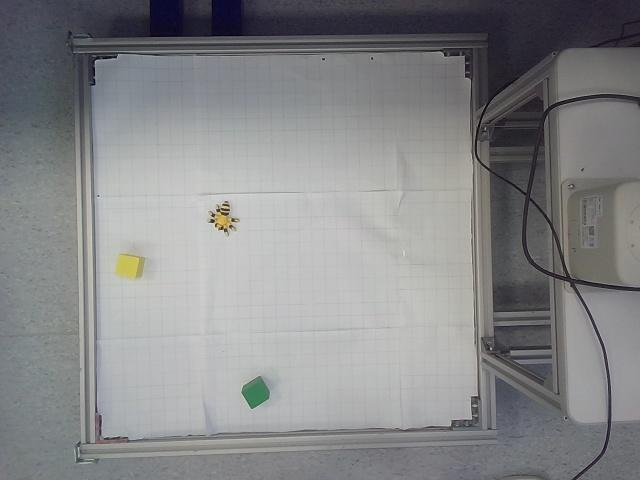frelon: (207, 201, 240, 237)
